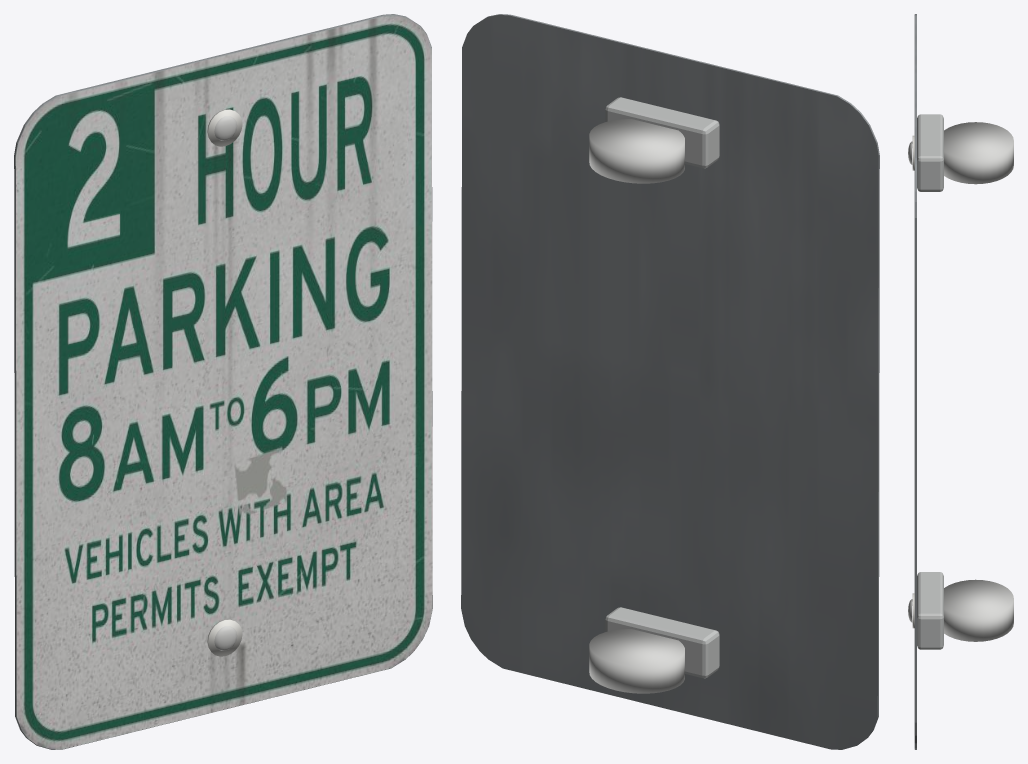
The model's file is permitParking-v1.glb.
3 renders of one model, left to right at view 1: azimuth 30°, elevation 25°; view 2: azimuth 150°, elevation 25°; view 3: azimuth 270°, elevation 25°, orthographic. The views are drawn at different scales.
Parts seen in each view (by area): view 1: permitParking-v1; view 2: permitParking-v1; view 3: permitParking-v1.
Part boxes in pixels (x1=…): permitParking-v1: x1=14, y1=14, x2=432, y2=749; permitParking-v1: x1=461, y1=14, x2=879, y2=749; permitParking-v1: x1=908, y1=14, x2=1013, y2=749.
Size of the model in its own units: 0.3556 by 0.5335 by 0.0871.
Materials: 1 (1 with a texture image).
